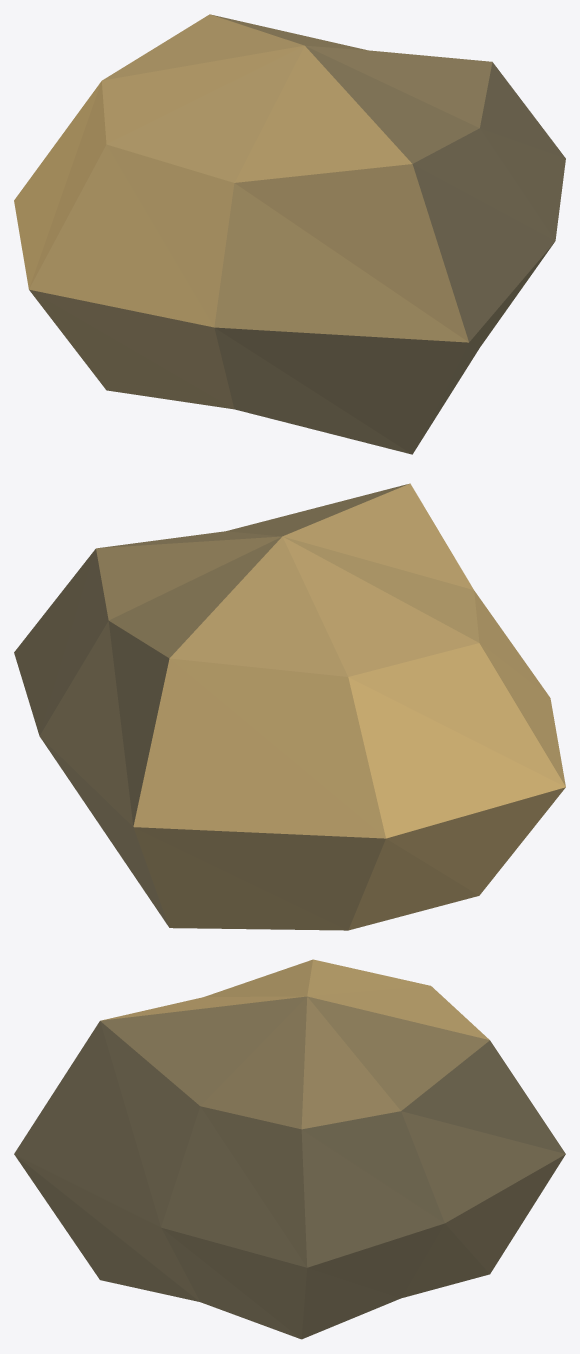
The model's file is forage_8_summer.glb.
The picture shows the model from 3 angles, top to bottom: view 1: azimuth 30°, elevation 25°; view 2: azimuth 150°, elevation 25°; view 3: azimuth 270°, elevation 25°; orthographic projection. The views are drawn at different scales.
Visible parts, largest first — view 1: Rohstoff 8 · summer; view 2: Rohstoff 8 · summer; view 3: Rohstoff 8 · summer.
Boxes of the visible parts, x1,y1,x2,y2 form: Rohstoff 8 · summer: (14, 14, 565, 454); Rohstoff 8 · summer: (14, 483, 565, 930); Rohstoff 8 · summer: (14, 959, 565, 1339).
Size of the model in its own units: 1.91 by 1.2 by 1.9.
